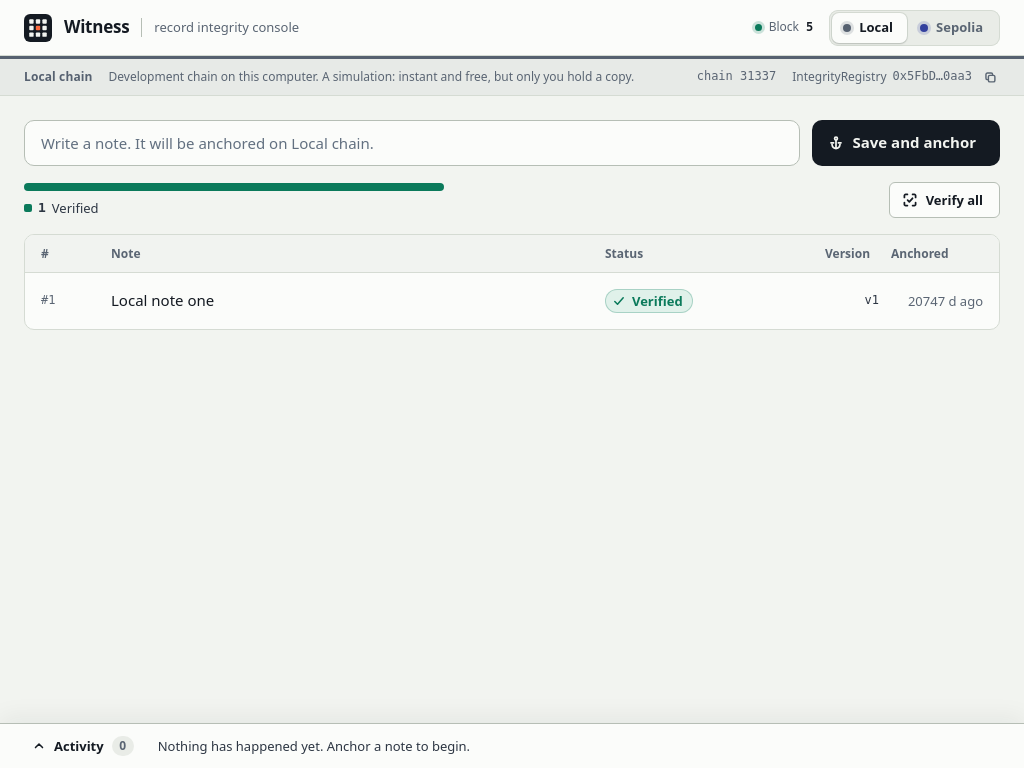
Scenario: App › opens the inspector for a clicked note
The image size is (1024, 768).
What coordinates should you click on to do the following:
click the text "Local note one"
I would click on:
 (163, 300)
Its box is [111,290,214,310].
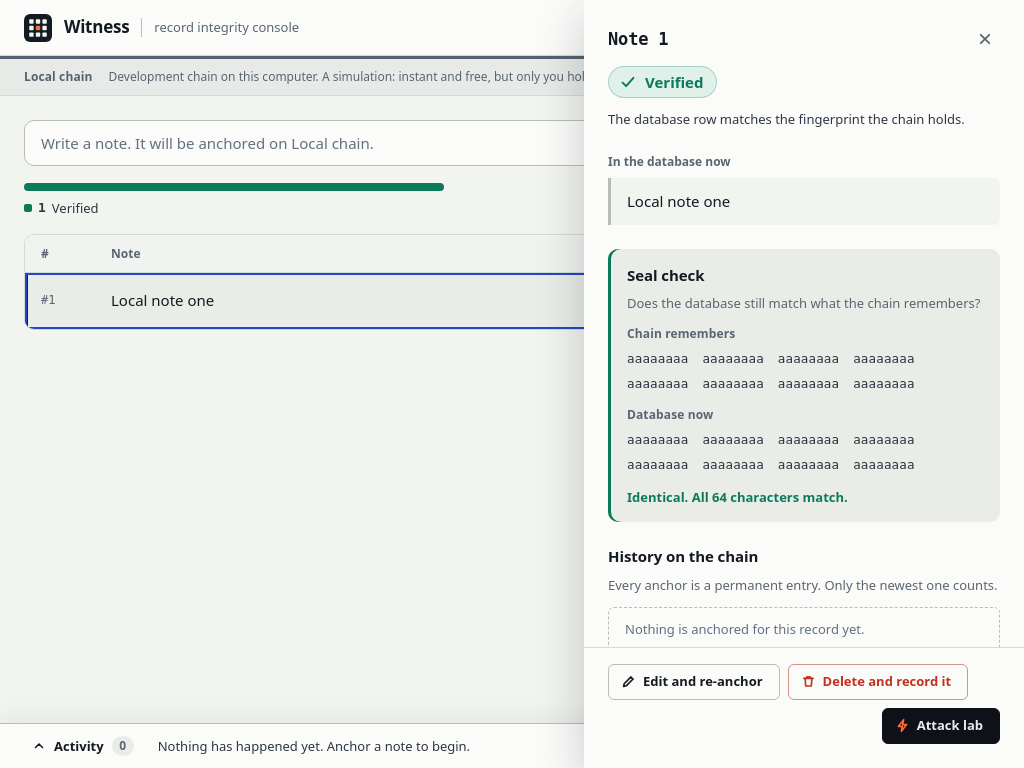
Now the heading "Note 1" is shown, box [608,27,668,51]
Now the text "Identical. All 64 characters match." is shown, box [627,488,848,506]
